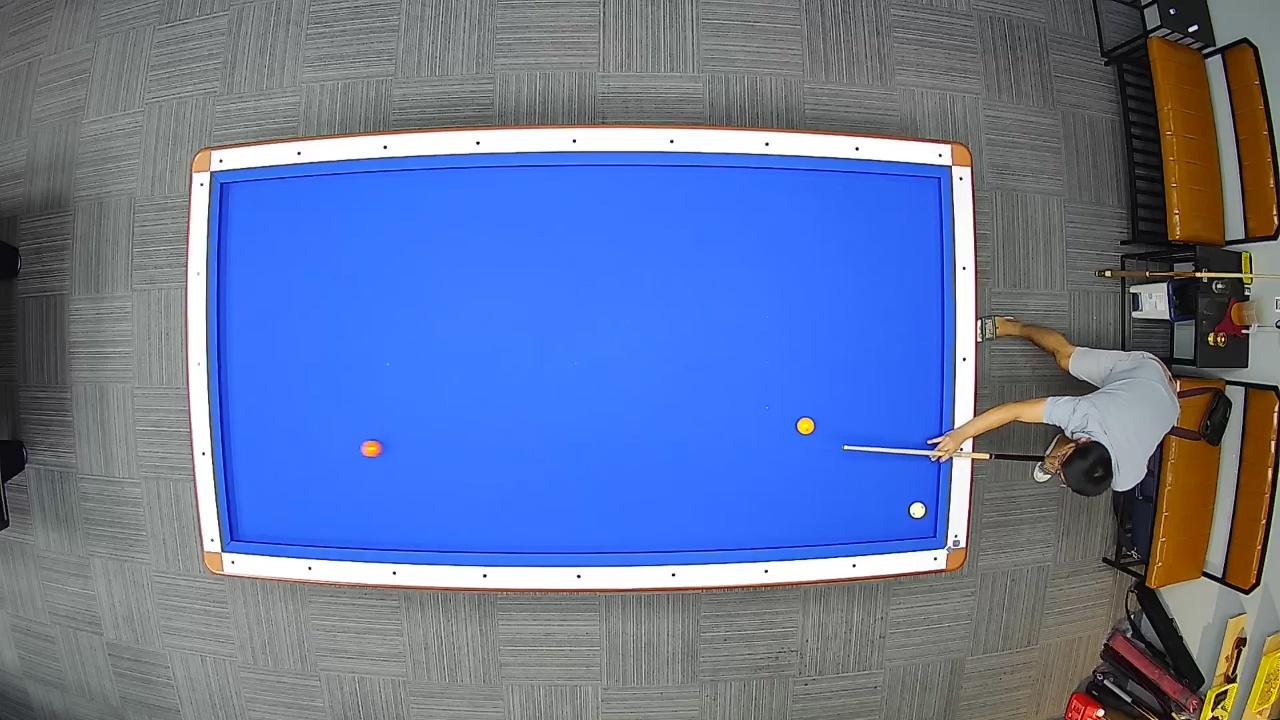Orange: (359, 437, 384, 460)
White: (906, 499, 928, 521)
Yellow: (794, 414, 818, 436)
